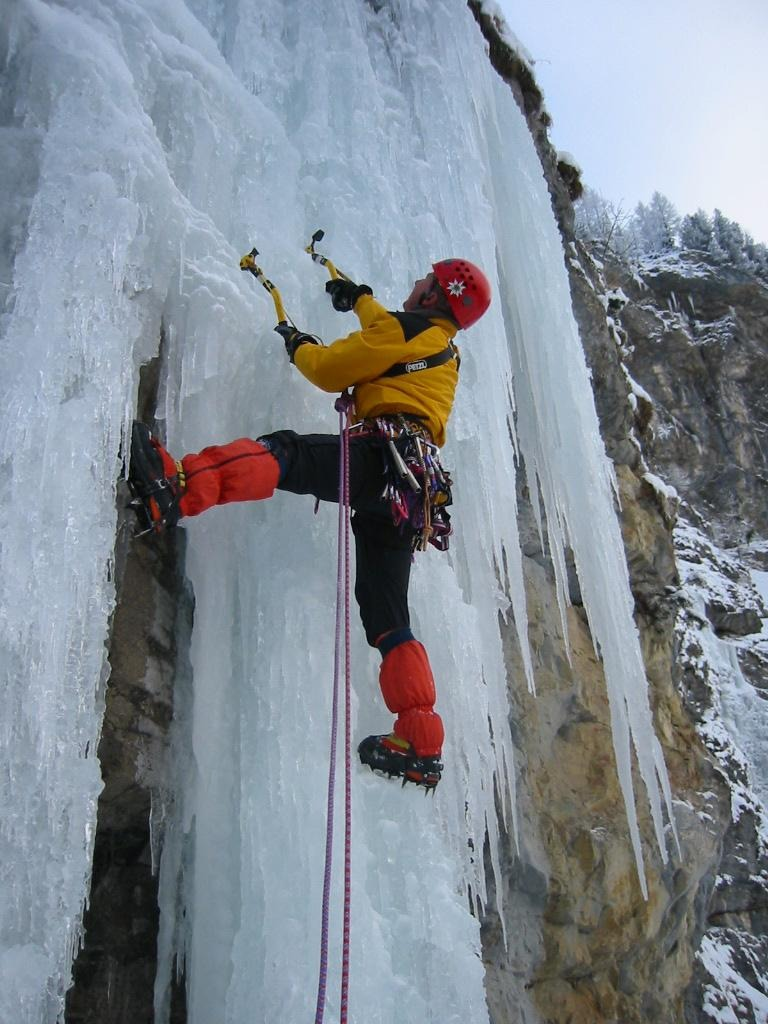helmet: (421, 250, 496, 336)
